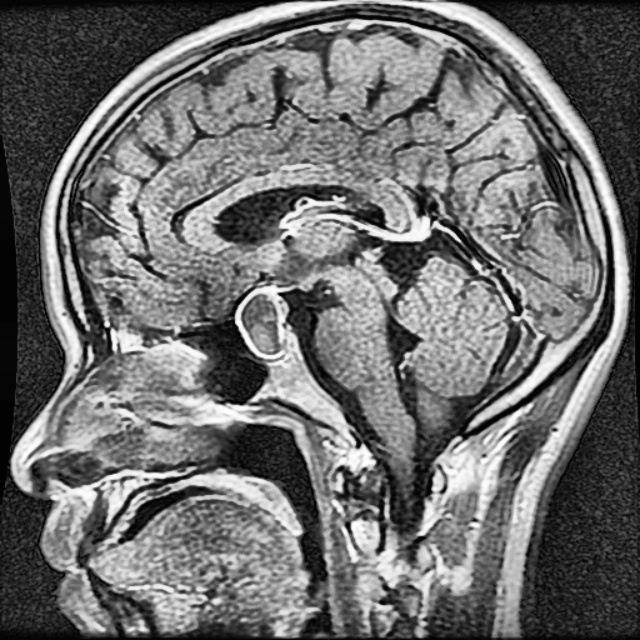Pituitary: (237, 288, 283, 354)
